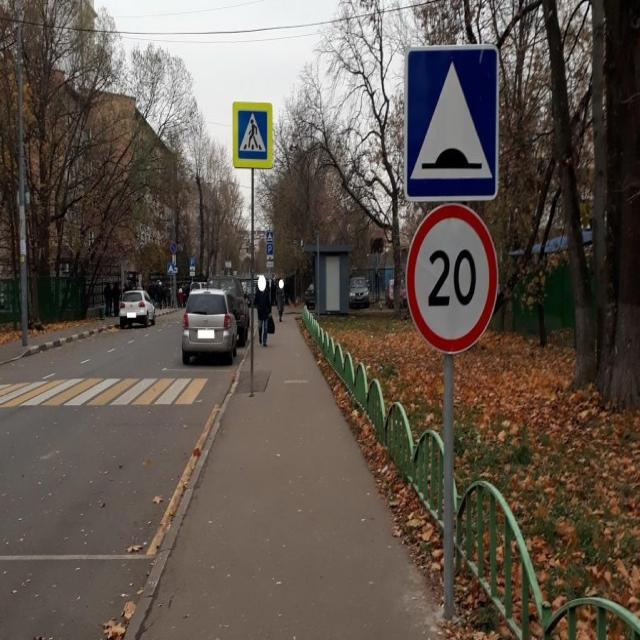Traffic sign: (402, 202, 498, 358), (404, 48, 498, 198), (229, 96, 275, 170)
